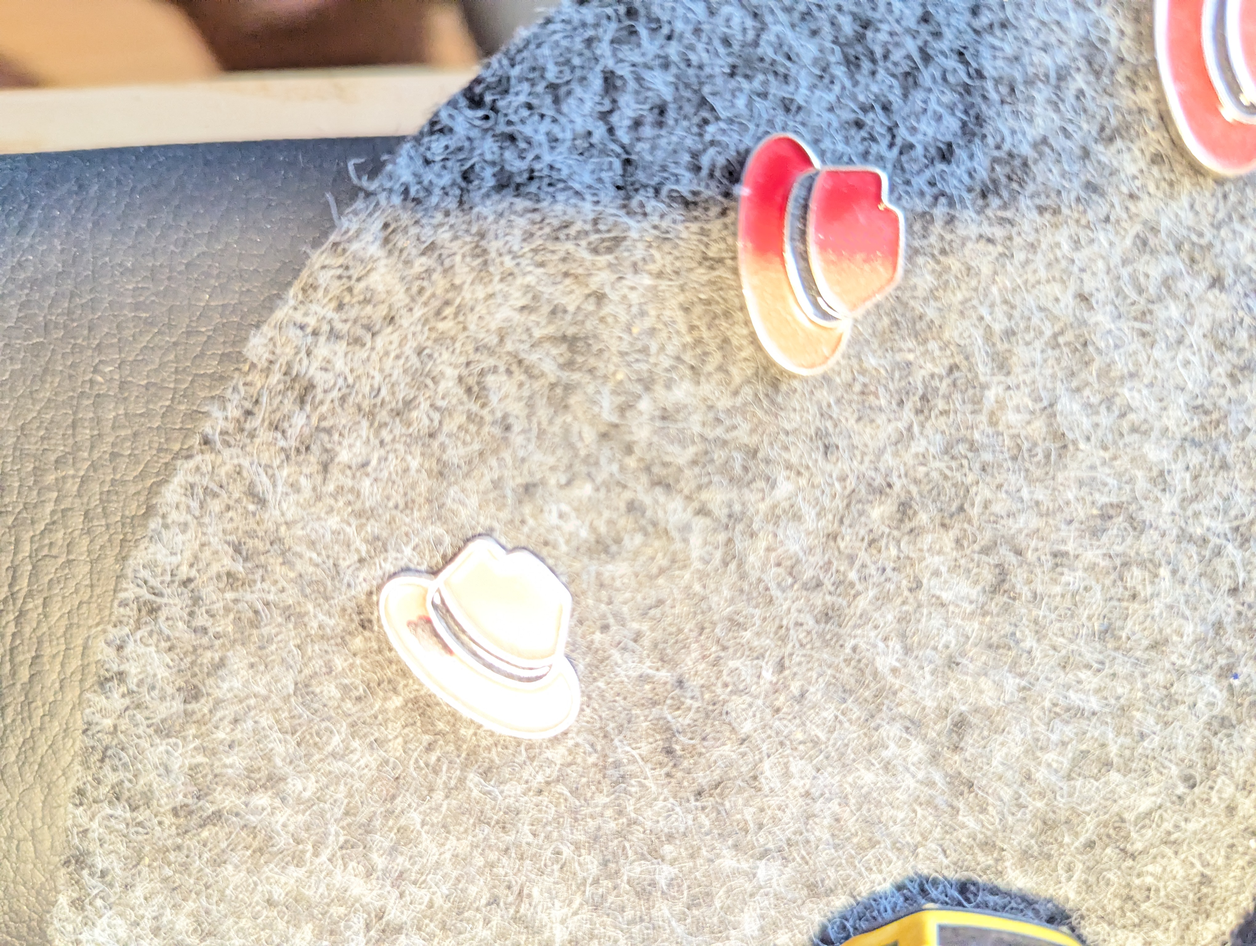Red-Hat: (709, 102, 930, 396), (362, 513, 610, 774), (1147, 0, 1256, 208)
Scratch: (399, 600, 462, 668)
